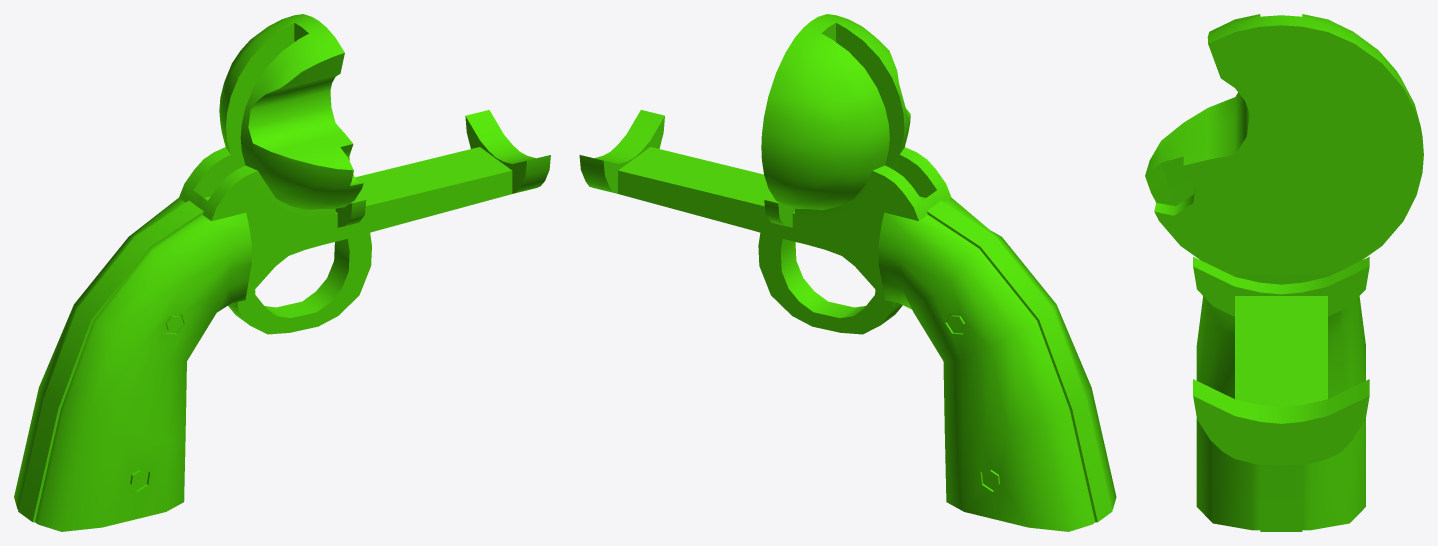
File: Body.fbx
3 renders of one model, left to right at view 1: azimuth 30°, elevation 25°; view 2: azimuth 150°, elevation 25°; view 3: azimuth 270°, elevation 25°, orthographic. The views are drawn at different scales.
Parts seen in each view (by area): view 1: Body; view 2: Body; view 3: Body.
Boxes of the visible parts, x1,y1,x2,y2 form: Body: (14,14,550,531); Body: (579,14,1116,531); Body: (1145,14,1423,531).
Bounding box in the file's own units: 4.85 × 3.98 × 1.65.
